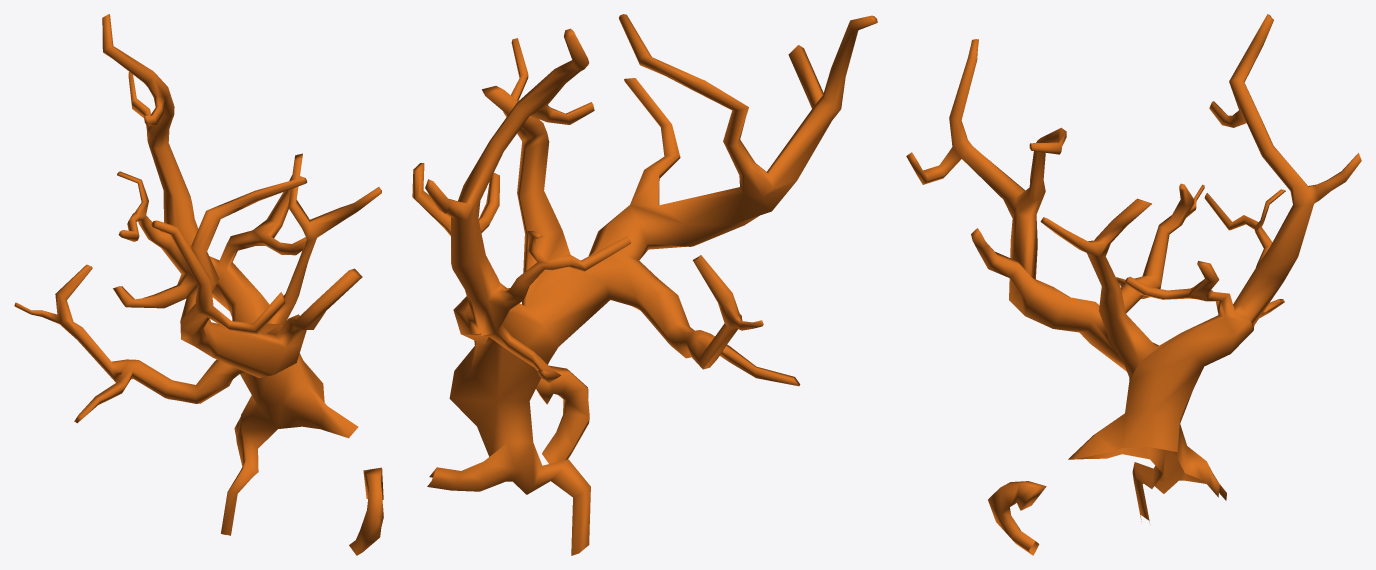
Rendered from baum02.FBX.
3 views of the same model, side by side, from view 1: azimuth 30°, elevation 25°; view 2: azimuth 150°, elevation 25°; view 3: azimuth 270°, elevation 25° (orthographic). The views are drawn at different scales.
Parts seen in each view (by area): view 1: baum02; view 2: baum02; view 3: baum02.
Part boxes in pixels (x1,y1,x2,y2): baum02: (14,14,383,555); baum02: (412,14,877,555); baum02: (906,14,1361,555).
Bounding box in the file's own units: 30.98 × 50.69 × 43.2.
